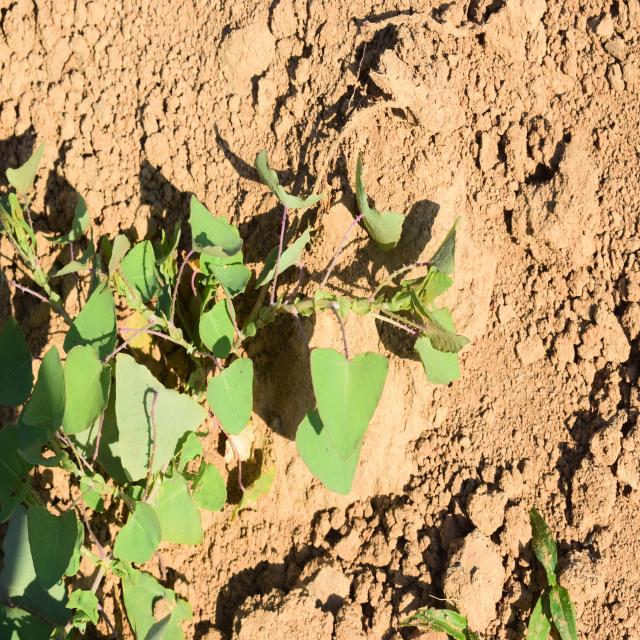Asiatic_Smartweed: (308, 158, 468, 484), (0, 229, 113, 595), (118, 188, 265, 418)
